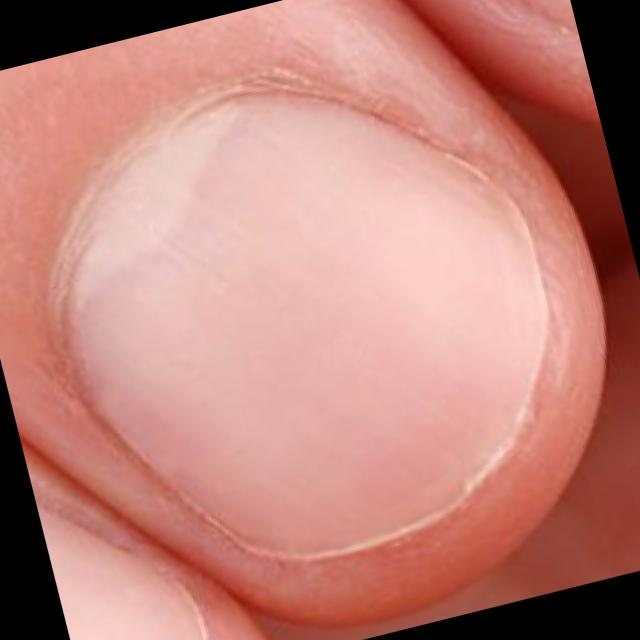Nail: (67, 94, 547, 552)
